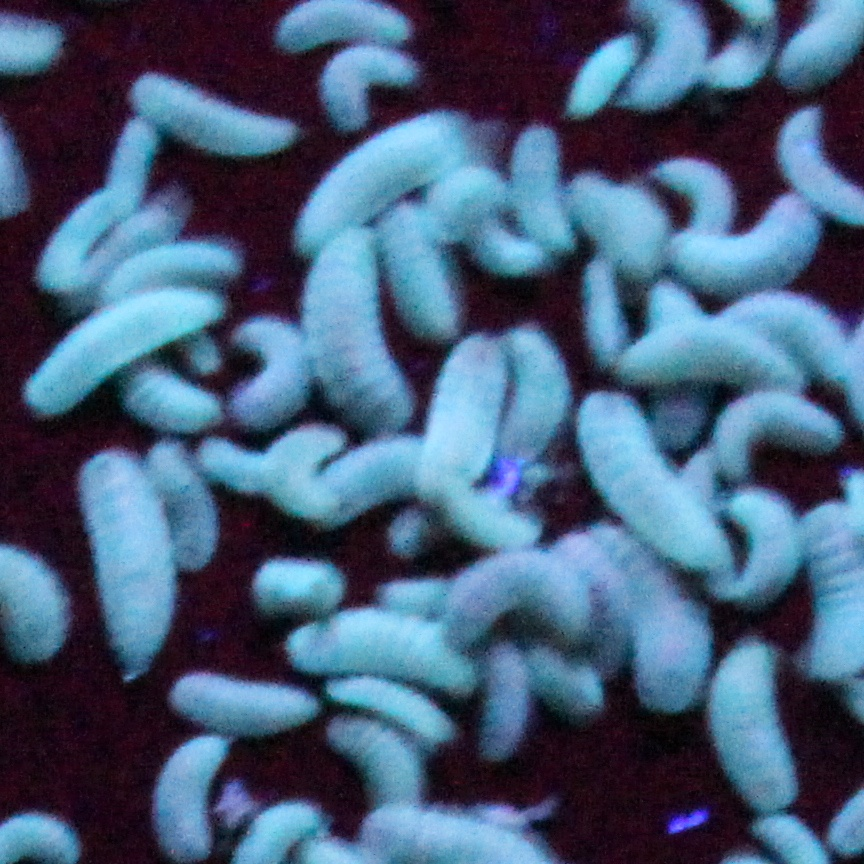larve: (78, 462, 168, 665), (312, 245, 387, 425), (141, 68, 295, 151), (717, 644, 782, 818), (634, 324, 789, 384), (426, 338, 489, 484), (182, 664, 318, 731), (635, 595, 707, 712), (717, 400, 842, 467), (767, 101, 857, 190), (304, 58, 422, 124), (458, 555, 578, 619), (108, 238, 252, 291), (238, 317, 308, 425), (724, 494, 792, 605), (602, 429, 675, 528), (578, 168, 659, 257), (514, 131, 574, 249), (678, 231, 797, 290), (392, 211, 455, 322), (269, 1, 411, 49), (505, 338, 559, 464), (321, 624, 449, 677), (674, 151, 761, 225), (337, 678, 462, 728), (262, 434, 334, 518), (574, 261, 628, 367), (635, 11, 694, 107), (171, 458, 219, 575), (538, 642, 598, 732), (349, 732, 419, 801), (479, 649, 525, 754), (251, 558, 345, 609), (336, 434, 418, 492), (331, 138, 398, 208), (77, 310, 155, 365), (439, 504, 542, 541), (721, 4, 764, 85), (45, 194, 94, 257), (804, 305, 844, 381), (578, 37, 624, 95), (112, 144, 142, 205)
